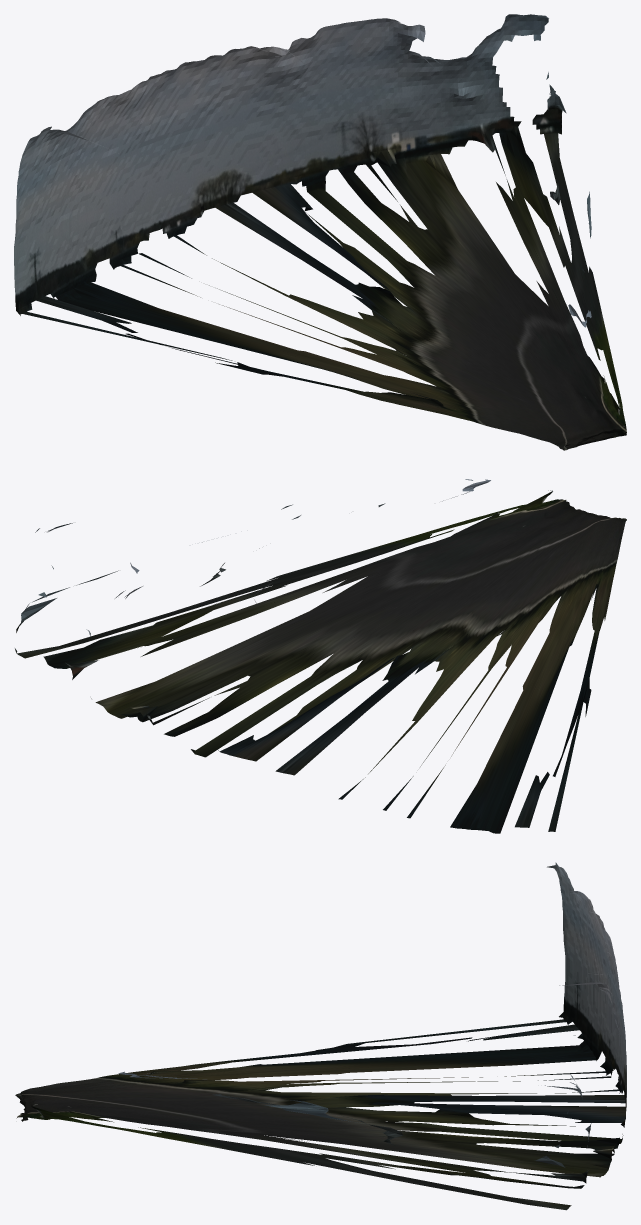
3 views of the same model, one above another, from view 1: azimuth 30°, elevation 25°; view 2: azimuth 150°, elevation 25°; view 3: azimuth 270°, elevation 25° (orthographic). The views are drawn at different scales.
Parts seen in each view (by area): view 1: defaultobject; view 2: defaultobject; view 3: defaultobject.
Part boxes in pixels (left/top/right/bottom): defaultobject: left=14, top=14, right=626, bottom=450; defaultobject: left=15, top=479, right=626, bottom=833; defaultobject: left=15, top=862, right=626, bottom=1210.
Size of the model in its own units: 41.16 by 13.98 by 44.65.
Materials: 1 (1 with a texture image).
